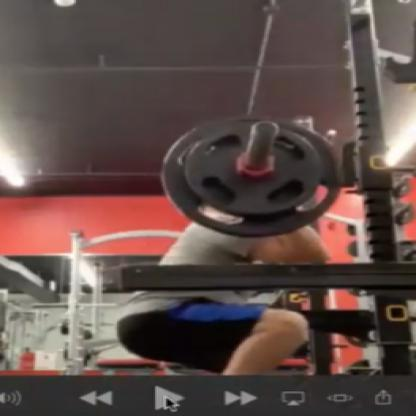barbell: (162, 118, 341, 240)
